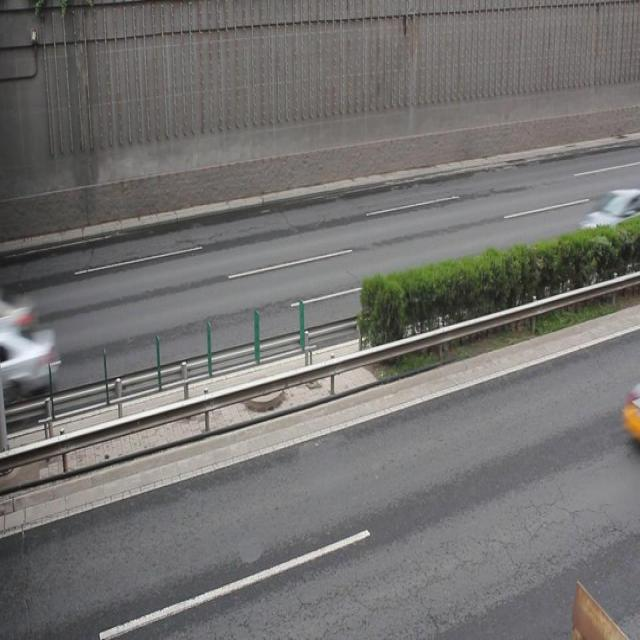car: (1, 322, 58, 406), (577, 188, 640, 258), (1, 286, 38, 348), (619, 383, 640, 436)
